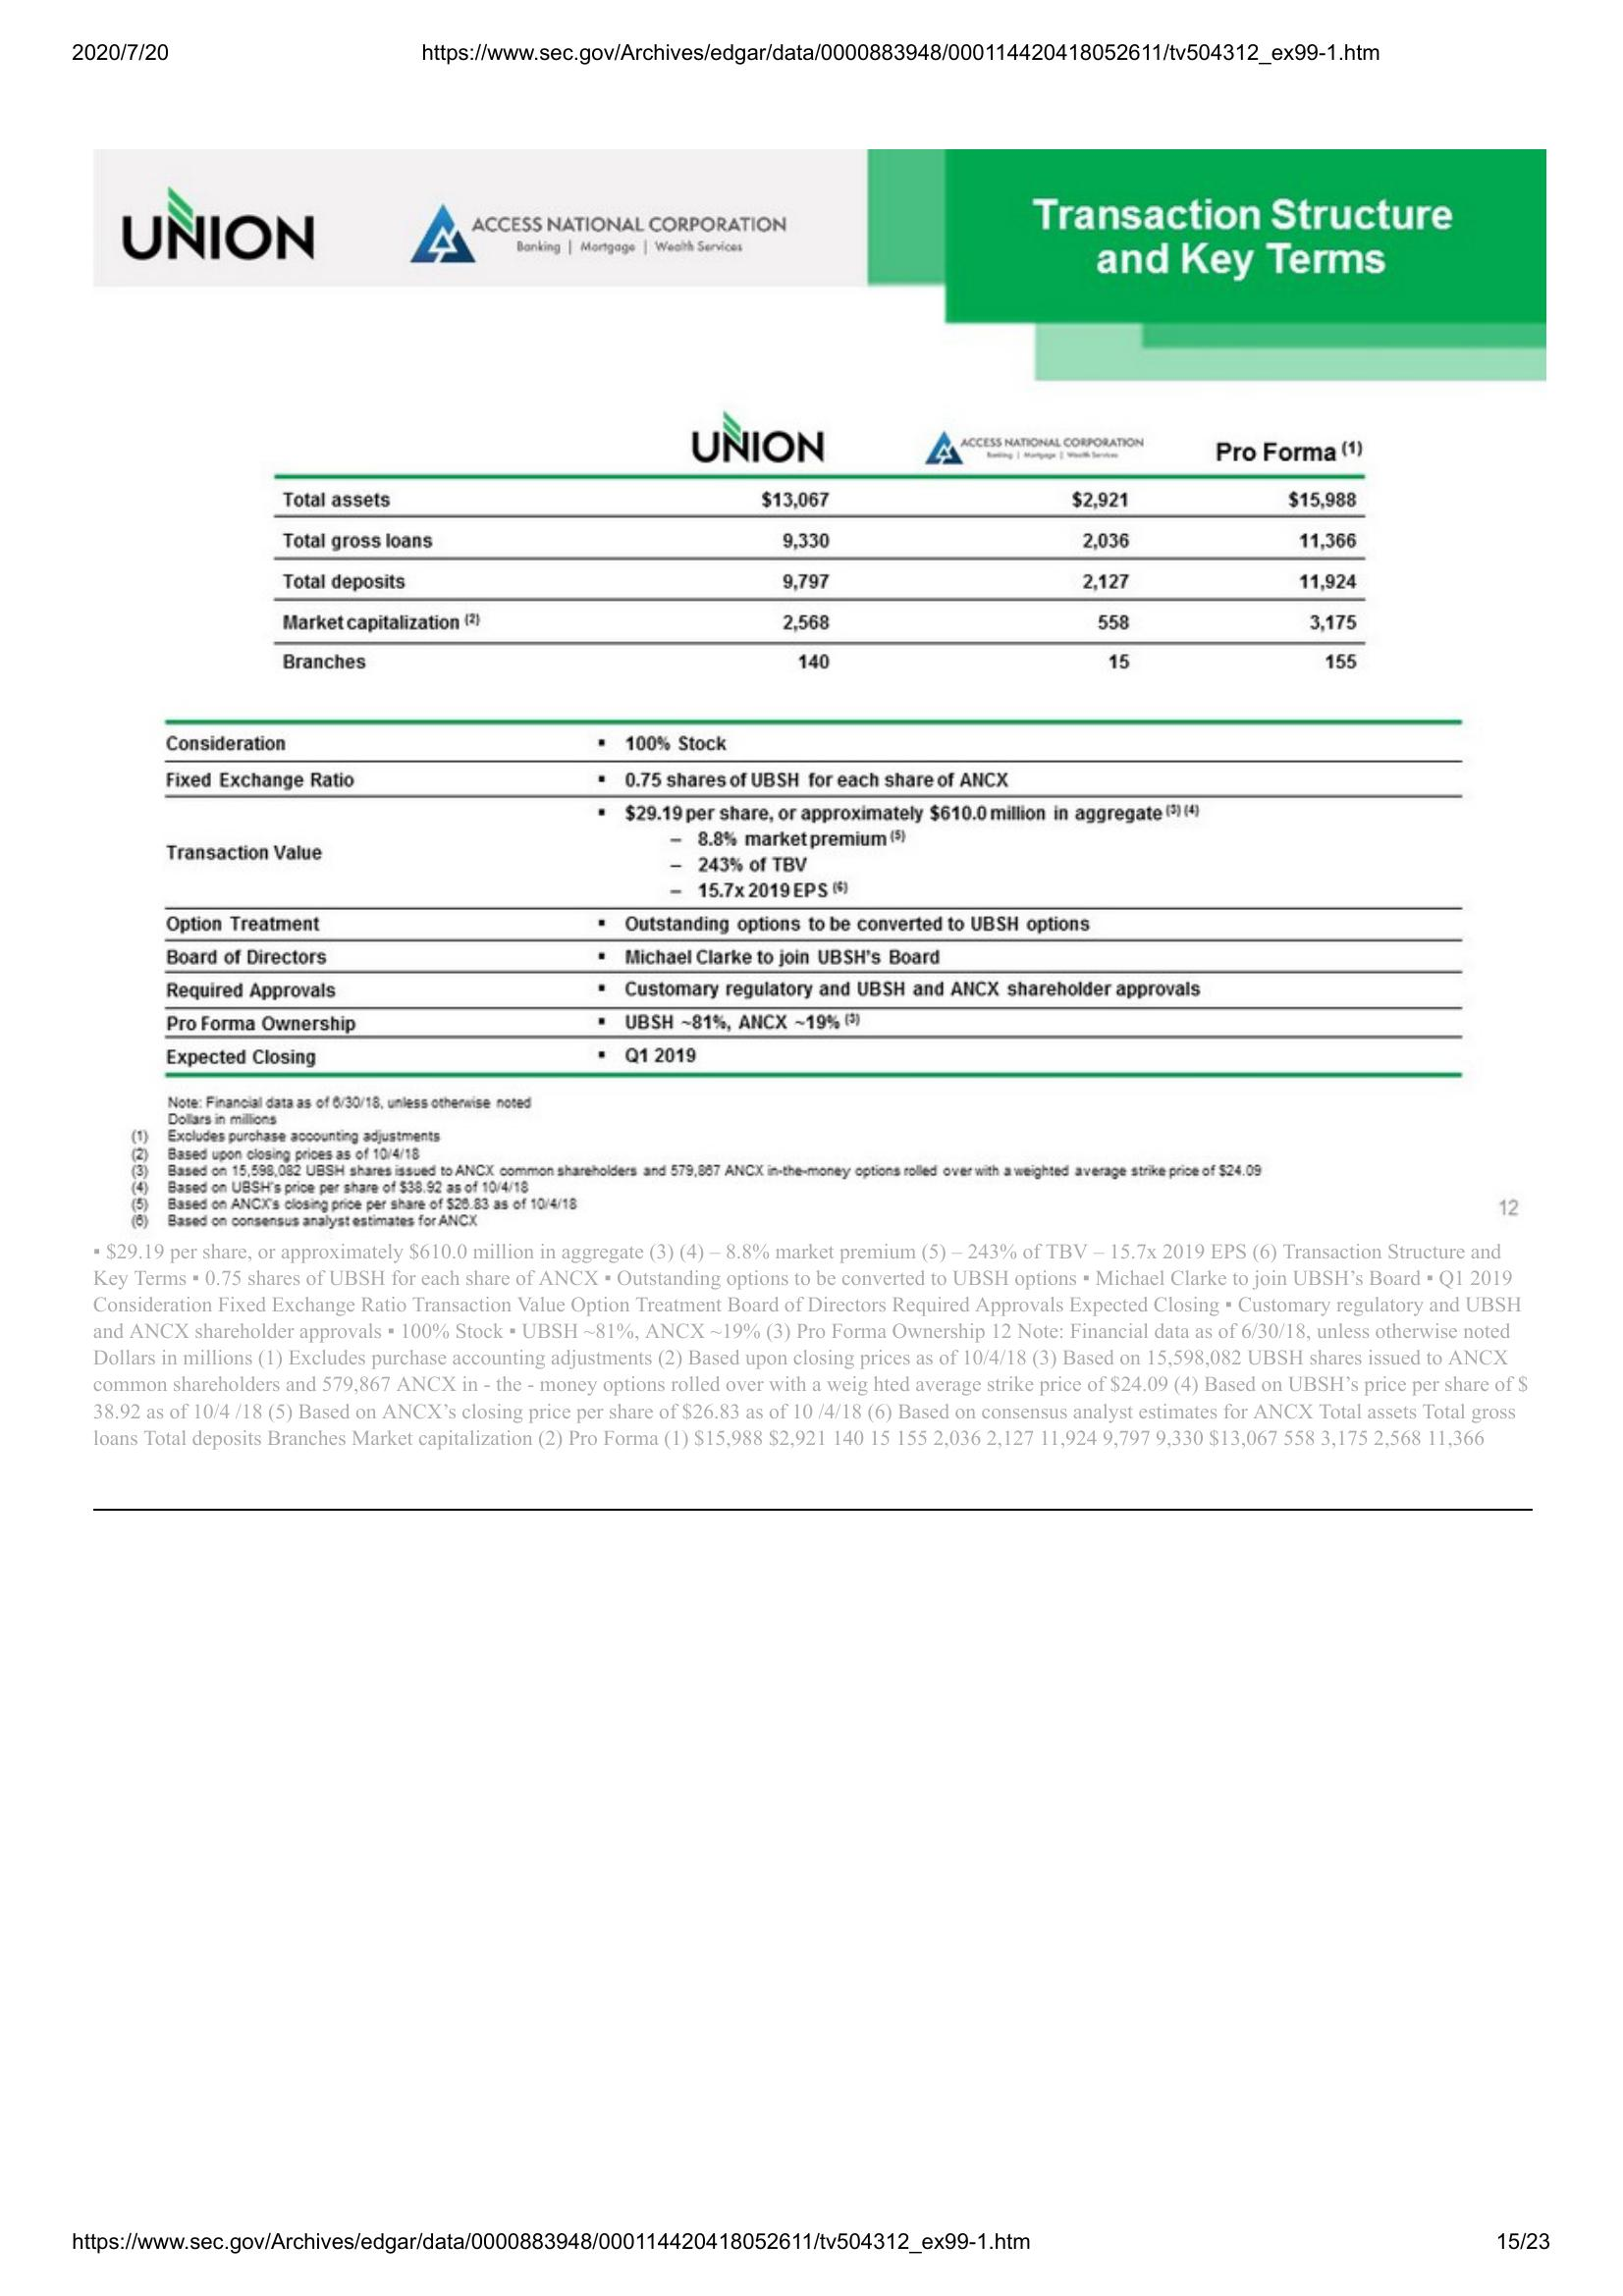table: (155, 709, 1470, 1090), (262, 421, 1372, 674)
